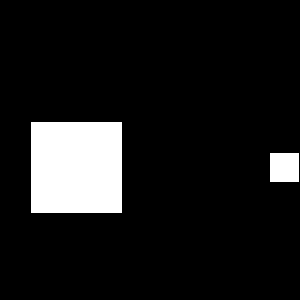circle: (31, 122, 122, 213), (270, 153, 299, 182)
